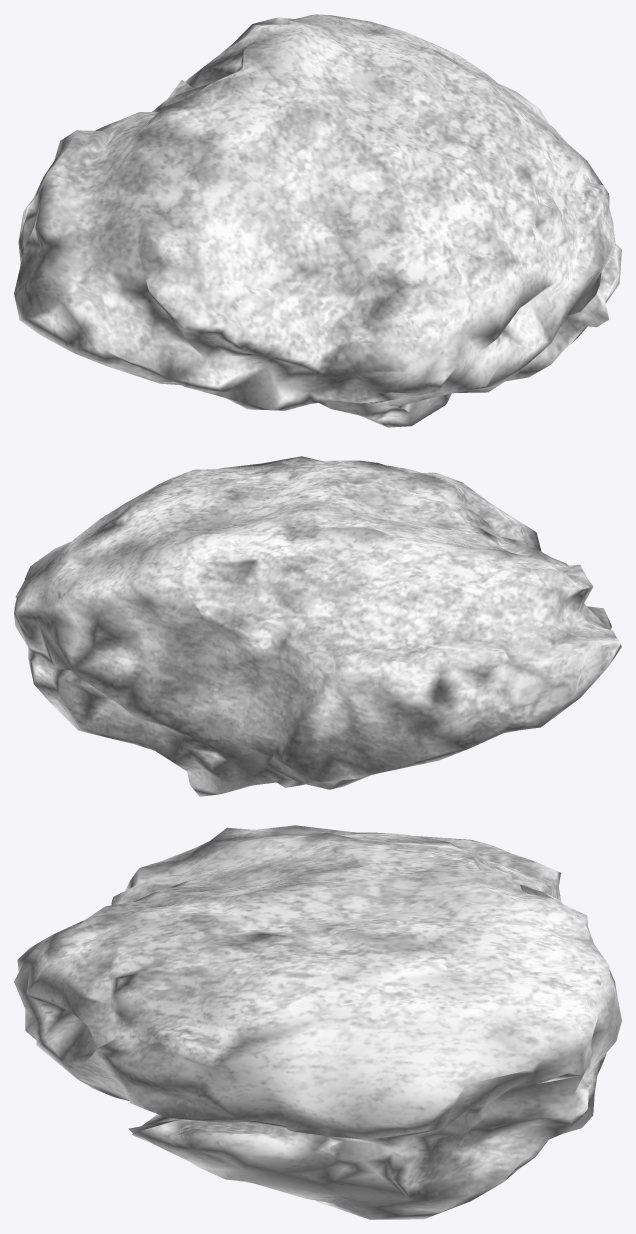
The model's file is debris.glb.
3 renders of one model, top to bottom at view 1: azimuth 30°, elevation 25°; view 2: azimuth 150°, elevation 25°; view 3: azimuth 270°, elevation 25°, orthographic. The views are drawn at different scales.
Bounding box in the file's own units: 0.8081 × 0.3738 × 0.7685.
1 material, 1 textured.
